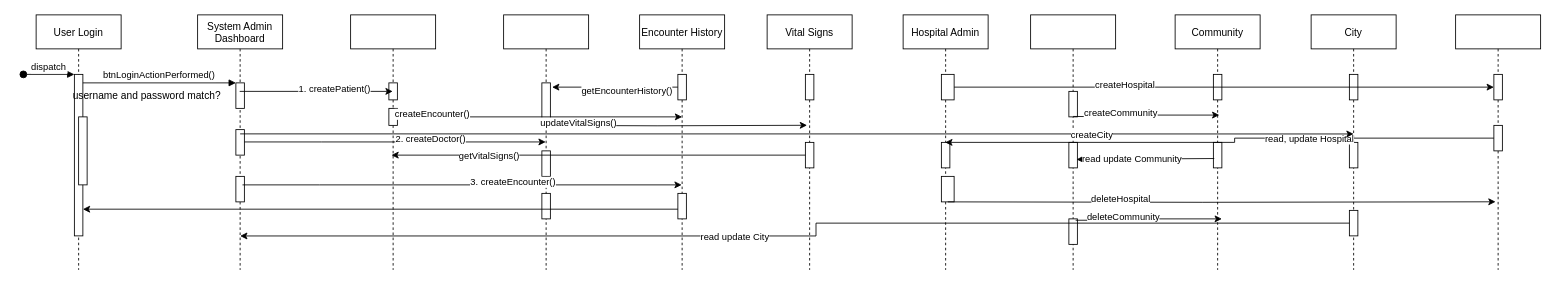
This 1556x285 diagram has some shape labels left out. Here are the shapes that lost their labels. From the top down, the centre of each, then its label:
At point (393, 142): "Patient Dashboard".
At point (546, 142): "Doctor Dashbord".
At point (1073, 142): "Community Admin".
At point (1498, 142): "Hospital".
